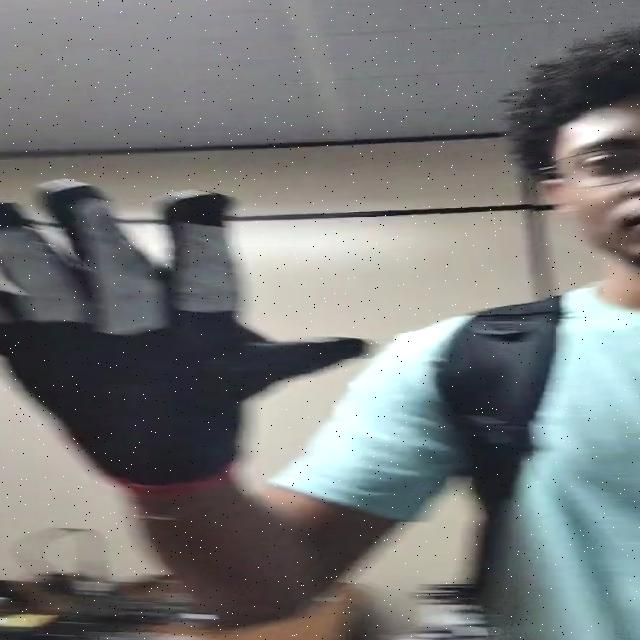Gloves: (0, 182, 368, 486)
